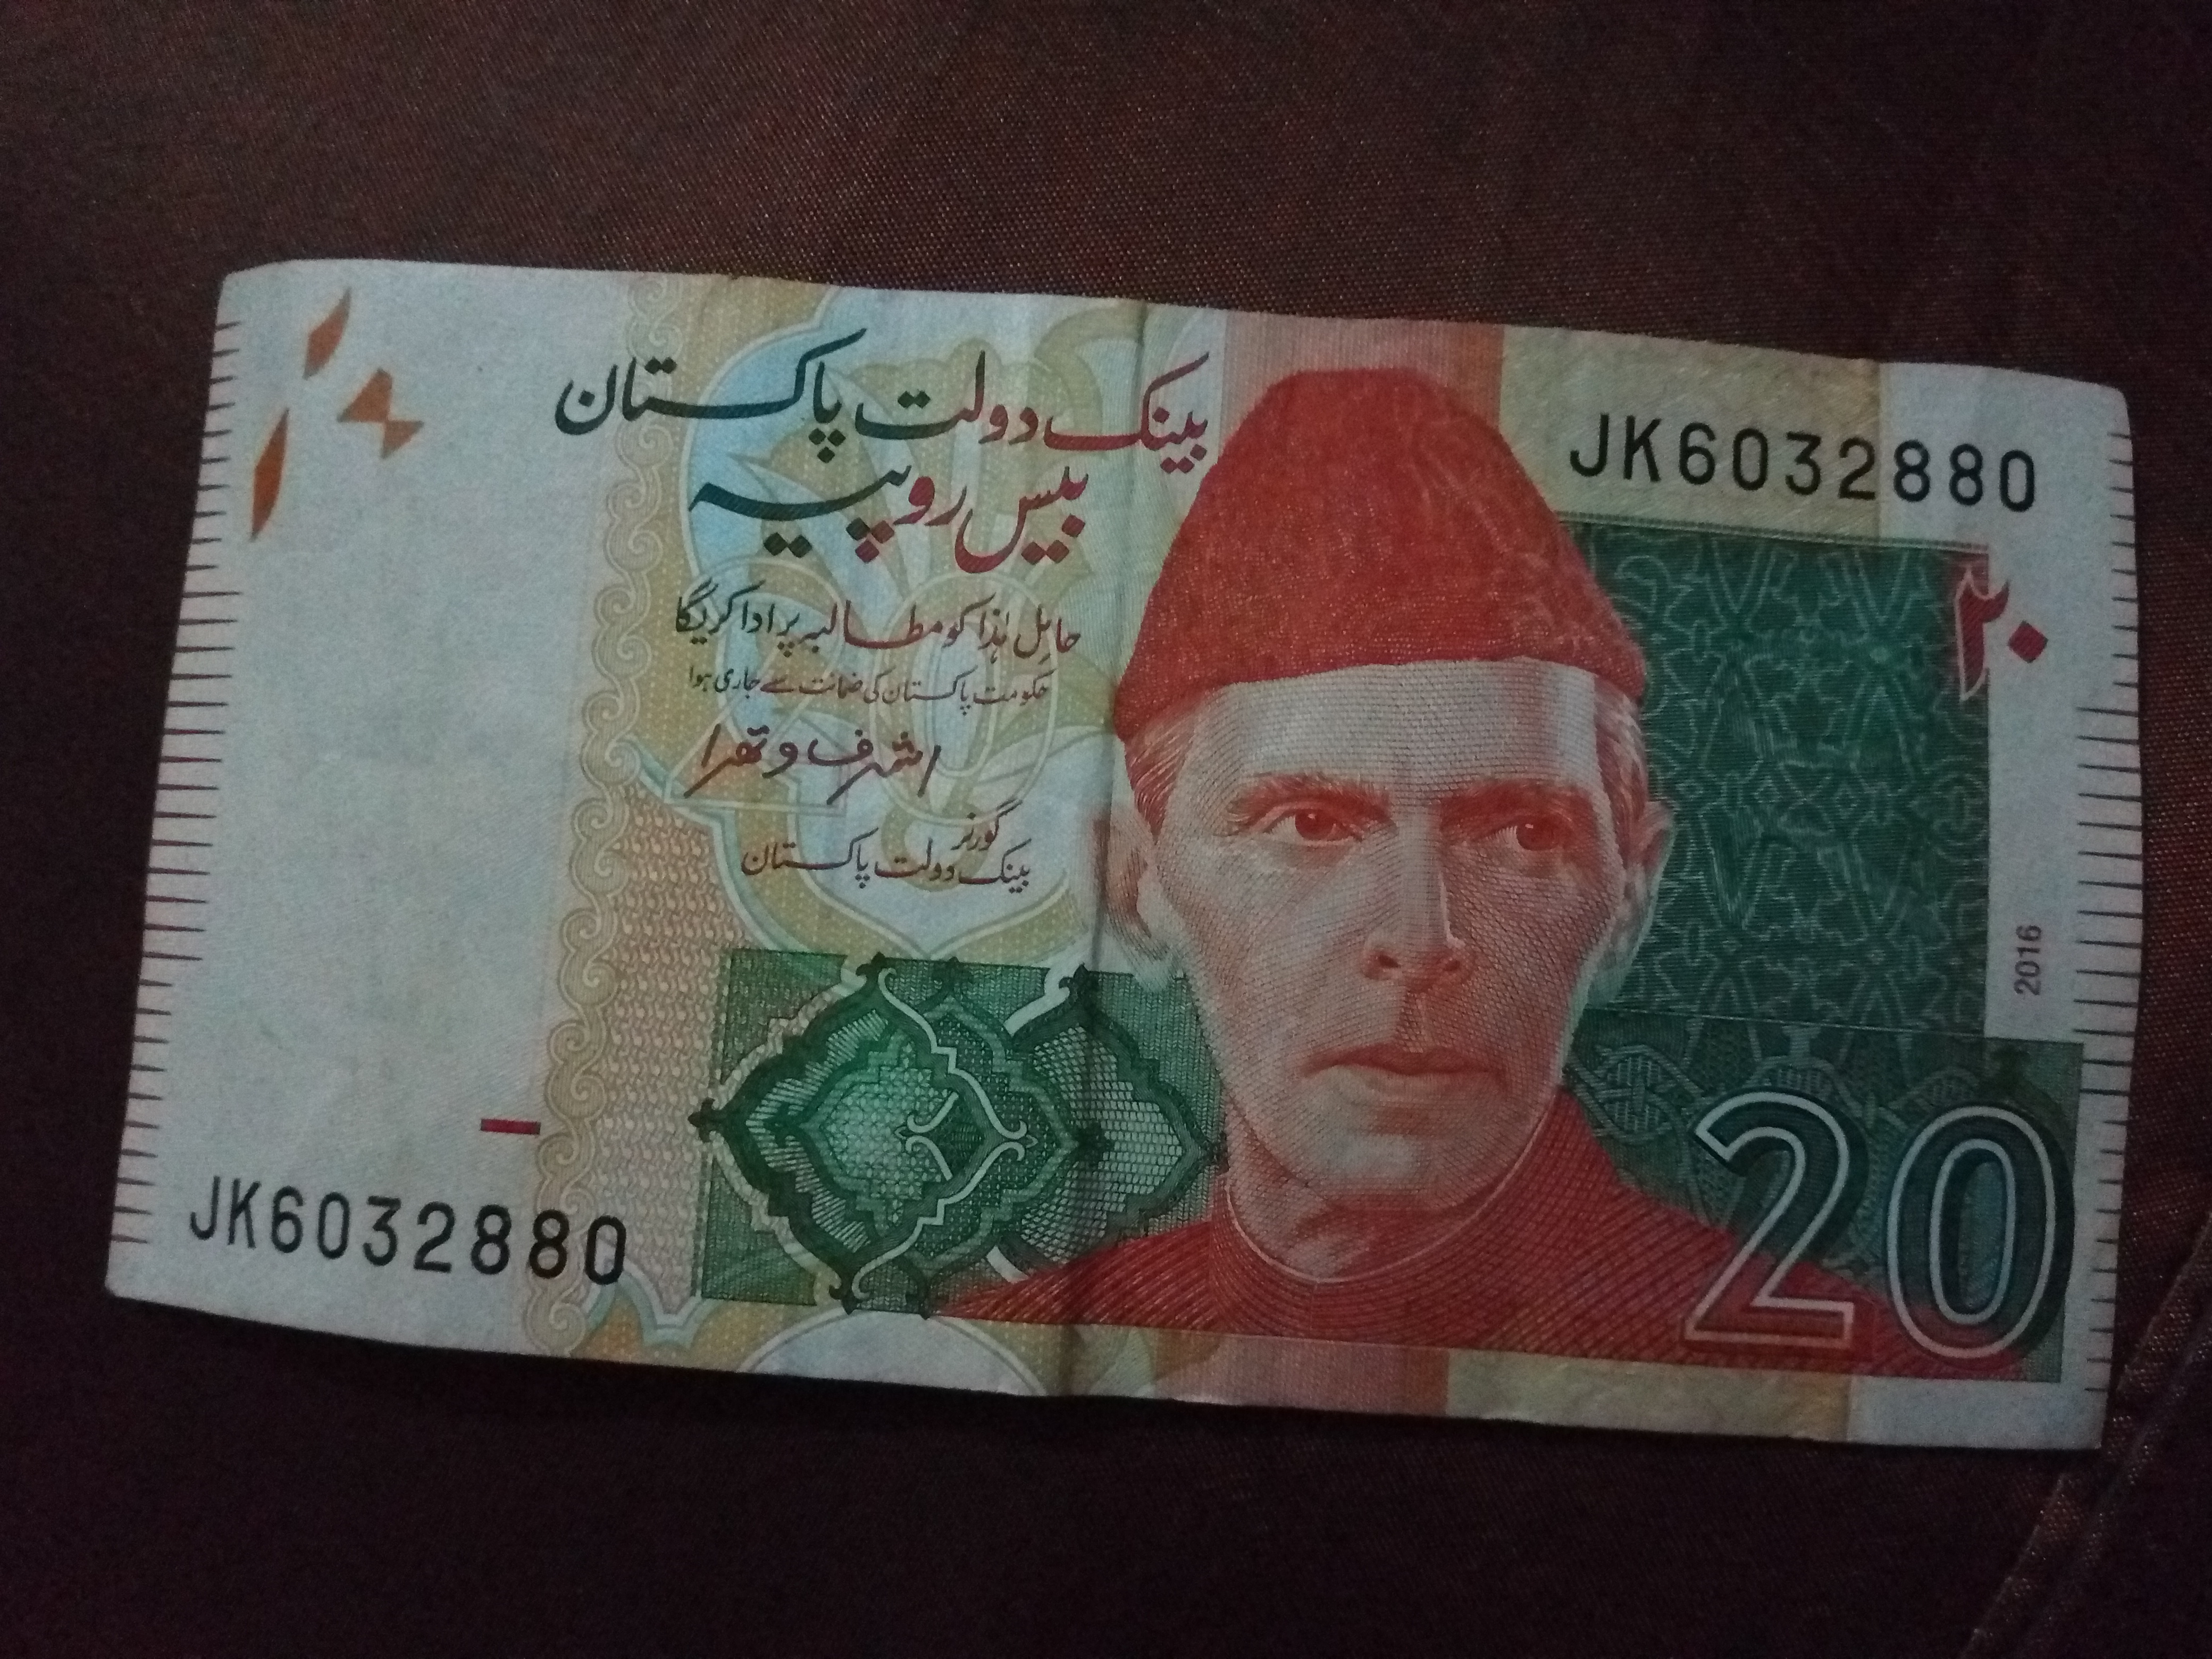20 rupee: (40, 193, 2095, 1532)
